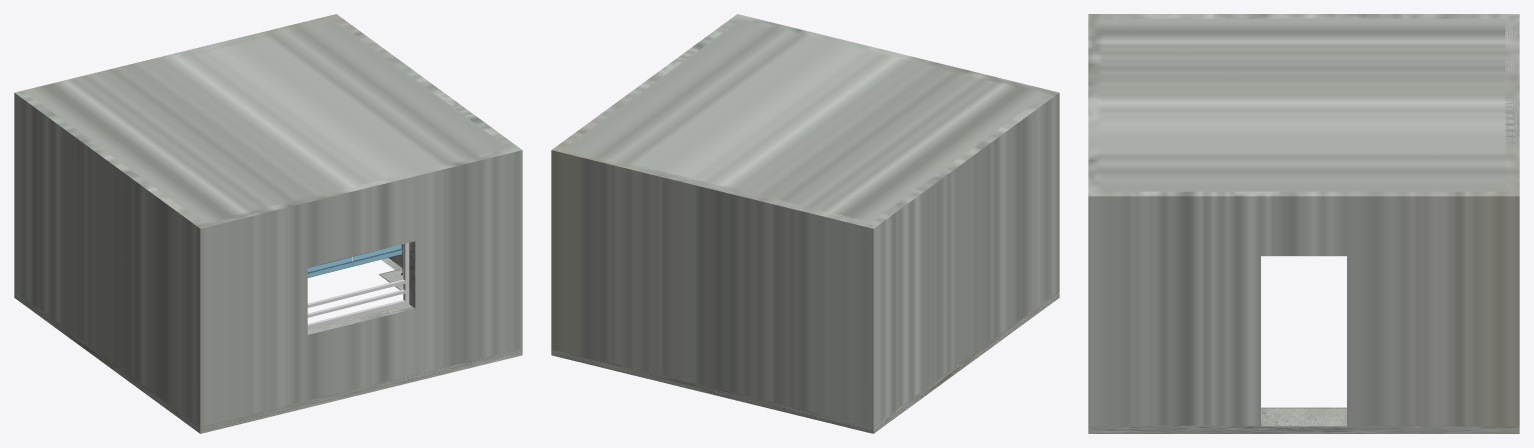
The model's file is duvar-png.fbx.
3 views of the same model, side by side, from view 1: azimuth 30°, elevation 25°; view 2: azimuth 150°, elevation 25°; view 3: azimuth 270°, elevation 25° (orthographic). The views are drawn at different scales.
Visible parts, largest first — view 1: oda; view 2: oda; view 3: oda.
Part boxes in pixels (x1,y1,x2,y2): oda: (14, 14, 522, 433); oda: (551, 14, 1059, 433); oda: (1088, 14, 1519, 433).
Bounding box in the file's own units: 1000 × 609 × 1000.
Materials: 6 (1 with a texture image).
